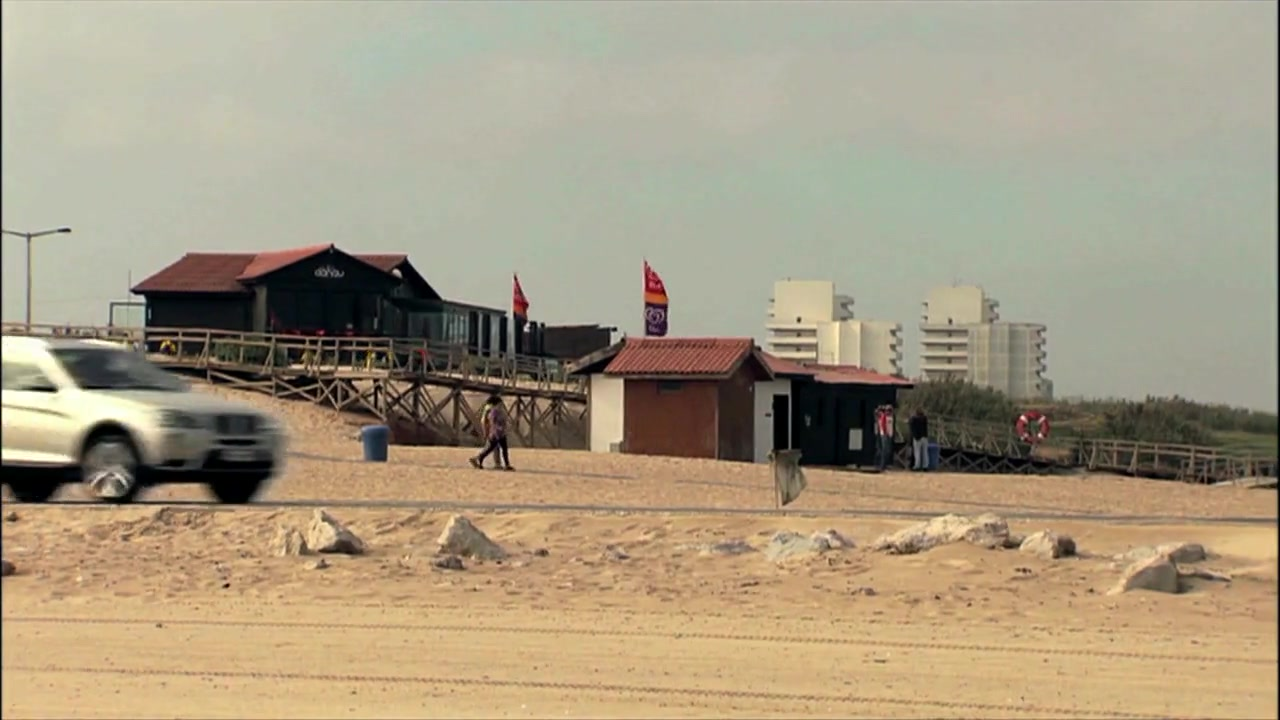car: (4, 329, 283, 510)
